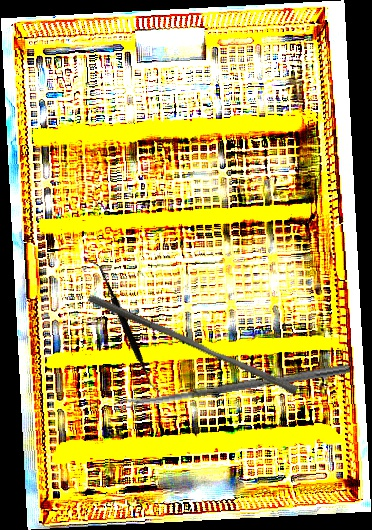Pusher: (84, 294, 301, 395)
Spatula Surgical: (49, 259, 200, 393)
Surgical Spoon: (119, 362, 351, 410)
